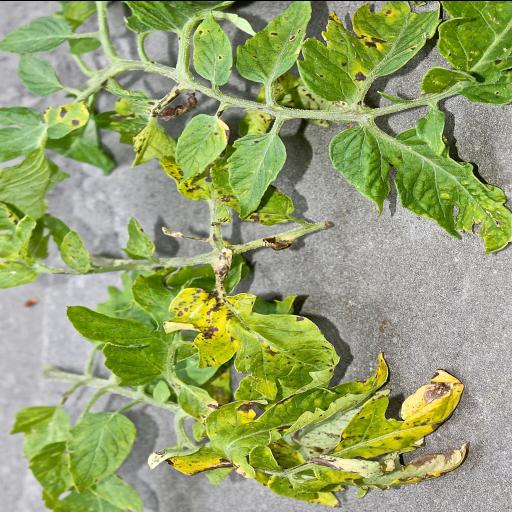disease_tomato: (322, 118, 512, 256), (204, 350, 392, 480), (166, 286, 344, 388), (293, 0, 443, 106), (331, 367, 462, 459), (232, 0, 318, 83), (224, 128, 292, 222), (170, 112, 233, 184), (188, 14, 236, 84)
